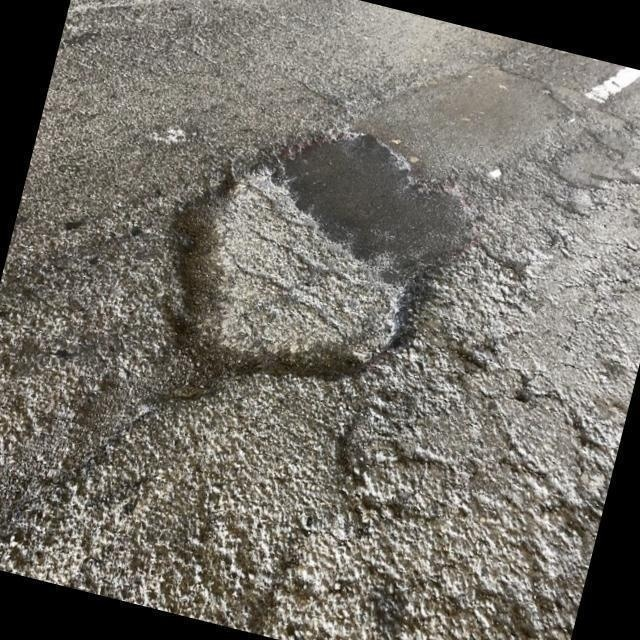pothole: (217, 110, 452, 377)
